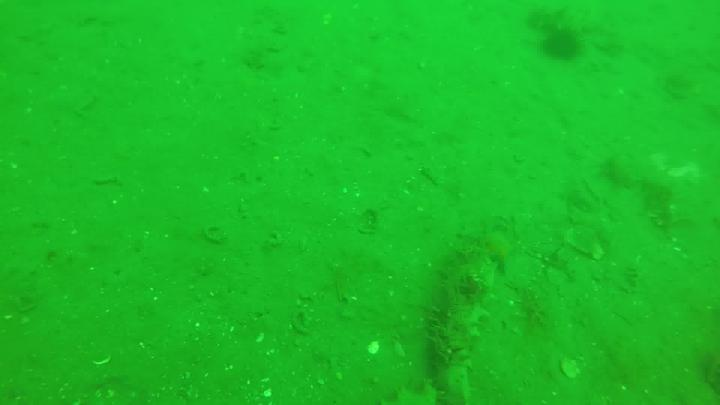echinus: (541, 31, 584, 64)
holothurian: (436, 224, 514, 405)
scallop: (562, 358, 580, 379), (368, 343, 381, 355)
